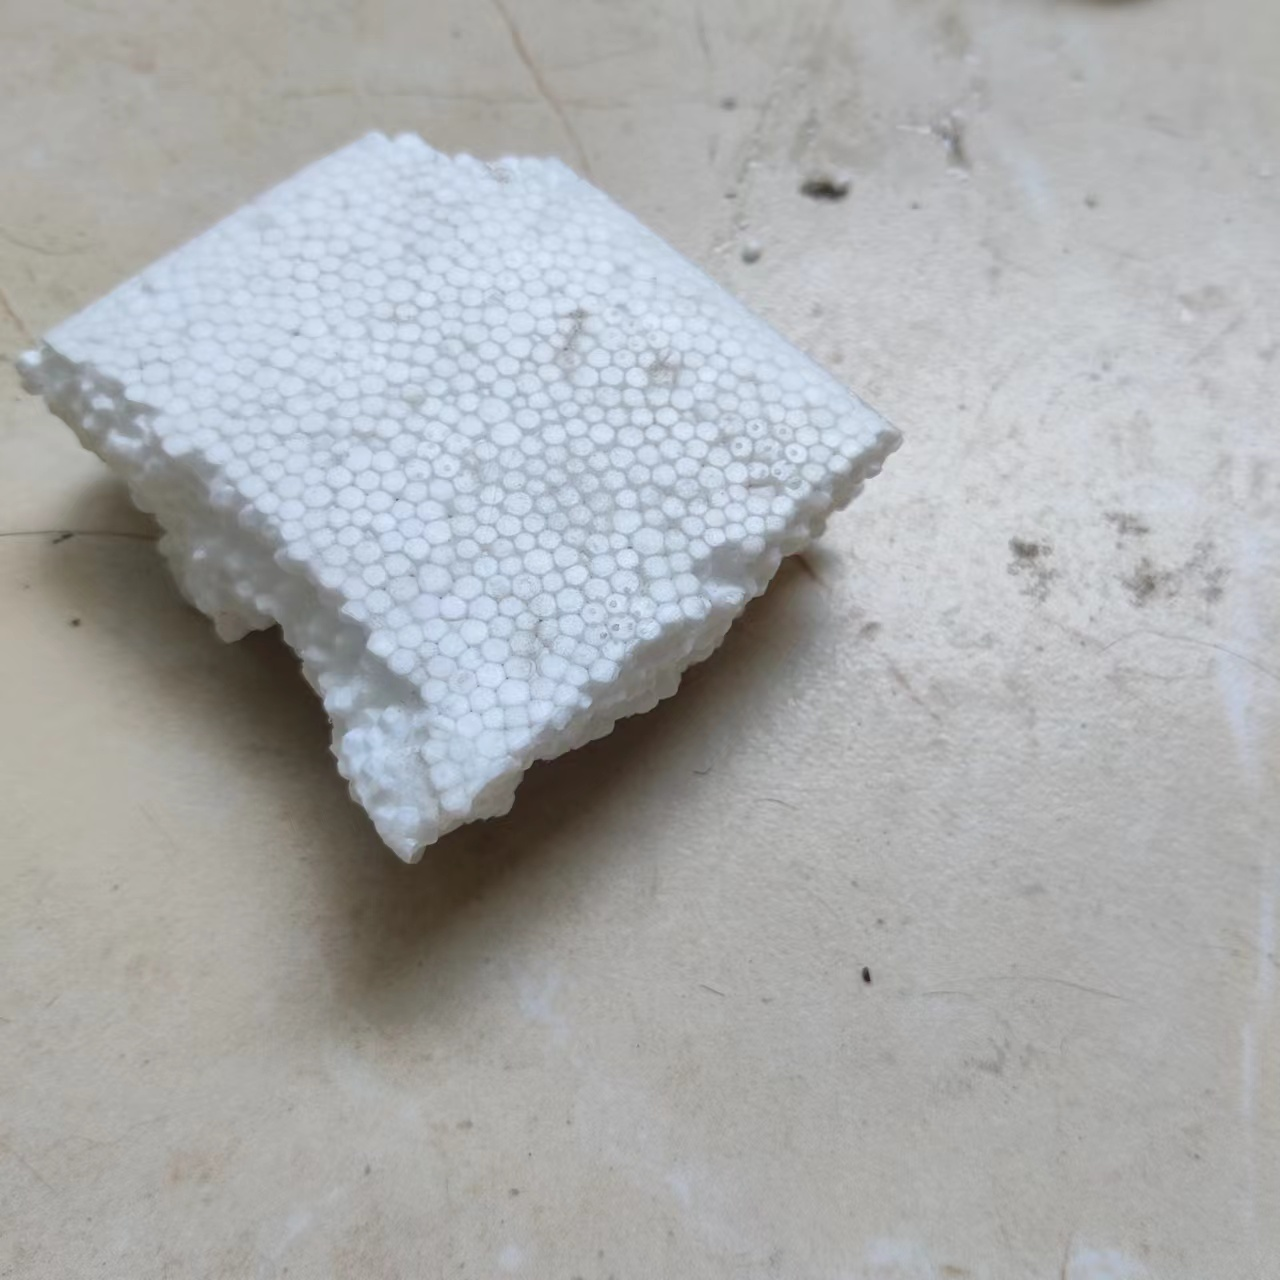5/可回收垃圾/泡沫: (16, 129, 903, 863)
